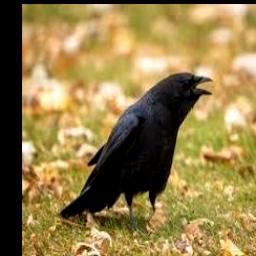Crow: (59, 72, 213, 232)
